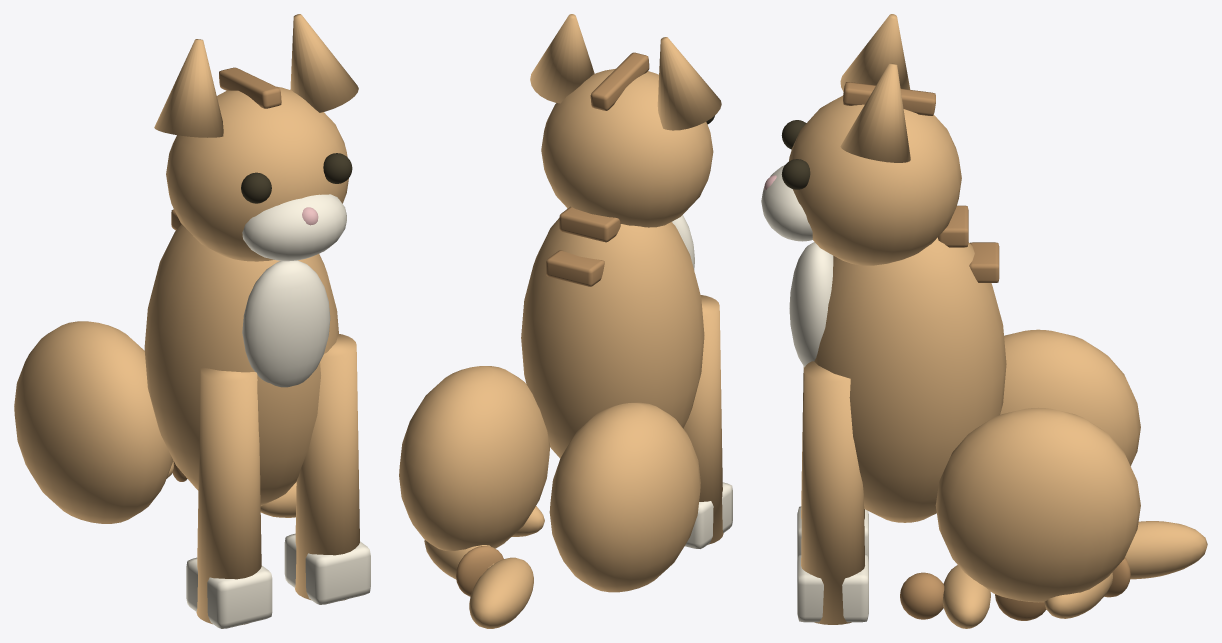
File: cat.glb
3 renders of one model, left to right at view 1: azimuth 30°, elevation 25°; view 2: azimuth 150°, elevation 25°; view 3: azimuth 270°, elevation 25°, orthographic. The views are drawn at different scales.
Parts seen in each view (by area): view 1: haunch, body, head, front_leg, front_leg.001, bib, muzzle, ear, ear.001, paw, paw.001, stripe_head (+3 smaller); view 2: body, haunch, haunch.001, head, front_leg, ear, tail_1, ear.001, stripe_head, stripe_back2, stripe_back1, paw (+3 smaller); view 3: body, haunch.001, head, front_leg.001, haunch, ear.001, bib, tail_1, paw.001, ear, muzzle, tail_3 (+7 smaller).
Boxes of the visible parts, left/top/right/bottom form: haunch: left=14, top=321, right=172, bottom=523; body: left=144, top=224, right=338, bottom=505; head: left=166, top=86, right=348, bottom=261; front_leg: left=196, top=367, right=261, bottom=624; front_leg.001: left=295, top=333, right=359, bottom=600; bib: left=242, top=260, right=330, bottom=387; muzzle: left=242, top=194, right=346, bottom=261; ear: left=154, top=39, right=223, bottom=137; ear.001: left=290, top=14, right=358, bottom=112; paw: left=186, top=557, right=272, bottom=628; paw.001: left=284, top=533, right=370, bottom=604; stripe_head: left=219, top=67, right=281, bottom=108; body: left=521, top=208, right=704, bottom=458; haunch: left=549, top=402, right=700, bottom=592; haunch.001: left=399, top=366, right=550, bottom=550; head: left=541, top=68, right=713, bottom=227; front_leg: left=683, top=295, right=723, bottom=544; ear: left=657, top=37, right=721, bottom=130; tail_1: left=469, top=557, right=533, bottom=628; ear.001: left=530, top=14, right=594, bottom=103; stripe_head: left=590, top=52, right=649, bottom=110; stripe_back2: left=546, top=250, right=604, bottom=286; stripe_back1: left=559, top=206, right=620, bottom=242; paw: left=685, top=482, right=732, bottom=548; body: left=803, top=237, right=1006, bottom=522; haunch.001: left=935, top=407, right=1140, bottom=602; head: left=789, top=95, right=961, bottom=265; front_leg.001: left=801, top=361, right=864, bottom=624; haunch: left=1000, top=329, right=1140, bottom=465; ear.001: left=840, top=63, right=910, bottom=162; bib: left=789, top=242, right=833, bottom=367; tail_1: left=1125, top=521, right=1207, bottom=579; paw.001: left=797, top=554, right=868, bottom=622; ear: left=840, top=14, right=910, bottom=91; muzzle: left=761, top=165, right=812, bottom=241; tail_3: left=942, top=565, right=990, bottom=628.
Bounding box in the file's own units: 0.322 × 0.5892 × 0.435.
